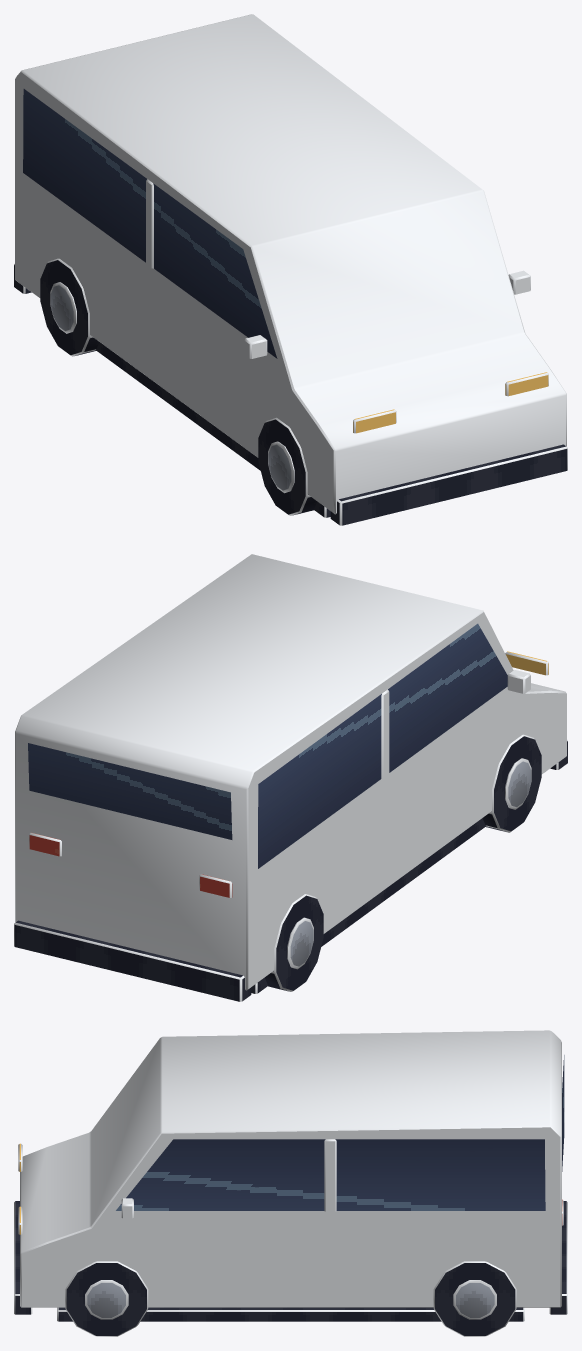
The model's file is car_2.glb.
3 renders of one model, top to bottom at view 1: azimuth 30°, elevation 25°; view 2: azimuth 150°, elevation 25°; view 3: azimuth 270°, elevation 25°, orthographic. The views are drawn at different scales.
Visible parts, largest first — view 1: car_3; view 2: car_3; view 3: car_3.
Boxes of the visible parts, left/top/right/bottom form: car_3: left=14, top=14, right=567, bottom=525; car_3: left=14, top=554, right=567, bottom=1001; car_3: left=14, top=1030, right=567, bottom=1336.
Bounding box in the file's own units: 2.23 × 1.89 × 4.5.
6 materials, 6 textured.
